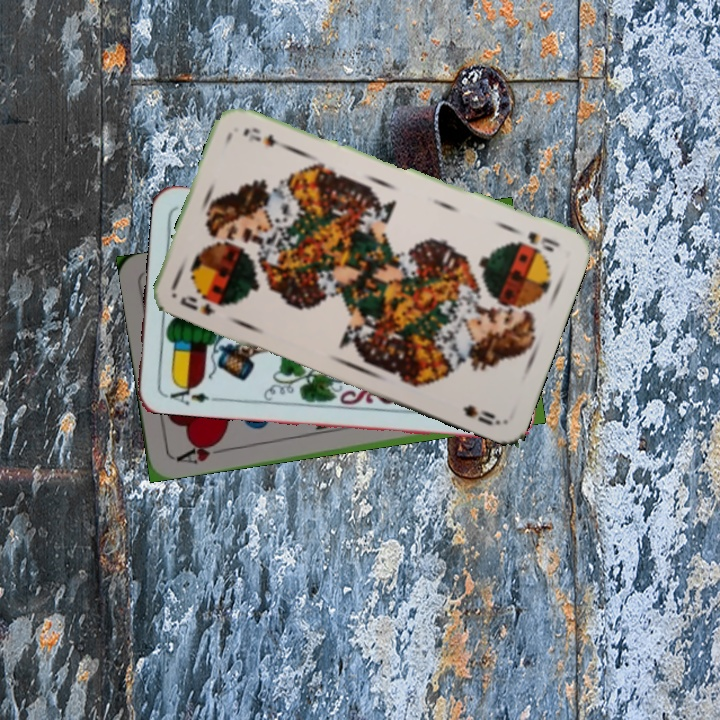EA: (160, 379, 220, 407)
HA: (172, 436, 230, 466)
SO: (513, 227, 563, 255), (176, 291, 218, 318)
